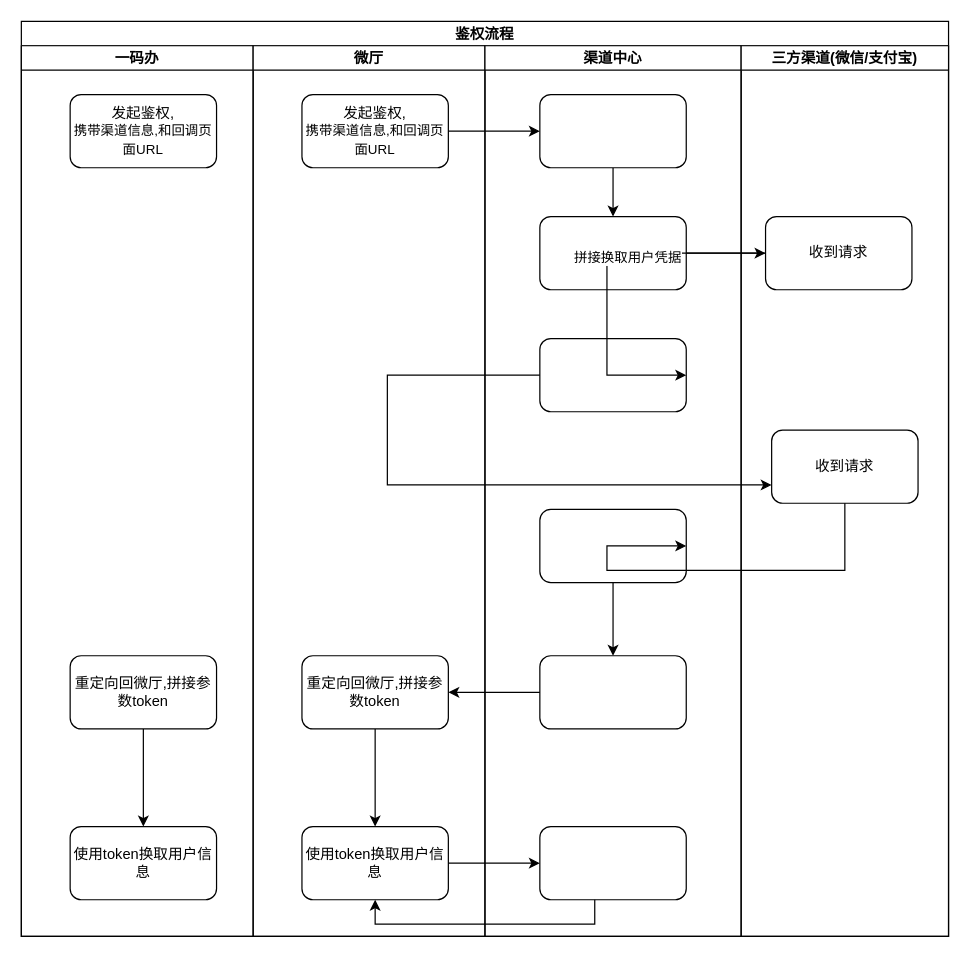
The diagram is 970 pixels wide and 958 high, and some of its shapes have lost their labels. The shapes that lost their labels are listed below. From the top down, each one's centre as x and y in pixels, then its label:
At (612,130): "收到鉴权请求".
At (612,252): "根据渠道信息,调用对应渠道鉴权页面".
At (612,374): "拿到凭据调用渠道进行用户信息获取".
At (612,545): "拿到用户信息".
At (612,692): "生成键值对; key = token, value = 用户信息".
At (612,862): "换取用户信息".
